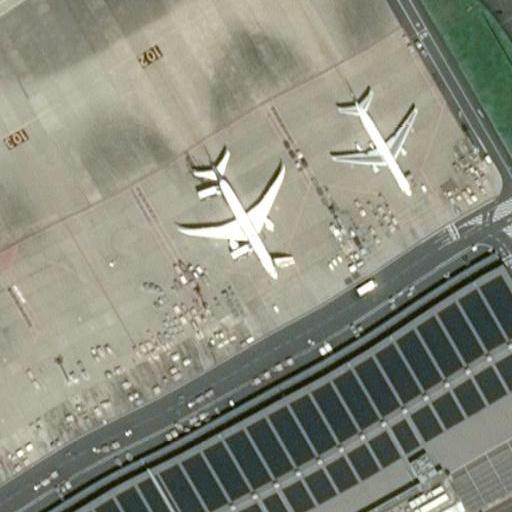Aircraft: (180, 150, 285, 277), (326, 87, 416, 198)
